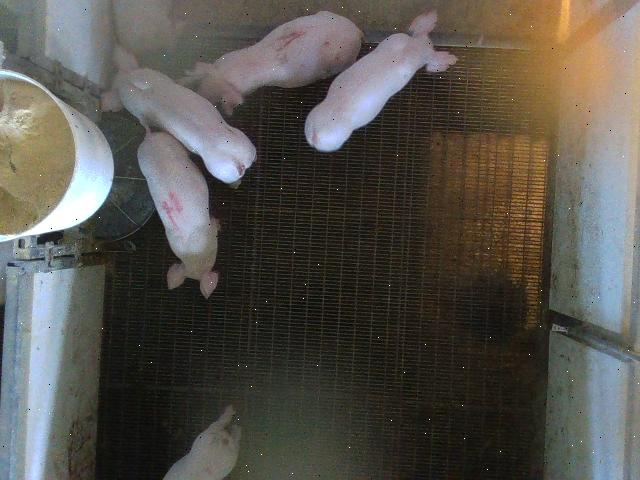pig-4: (138, 131, 219, 298)
